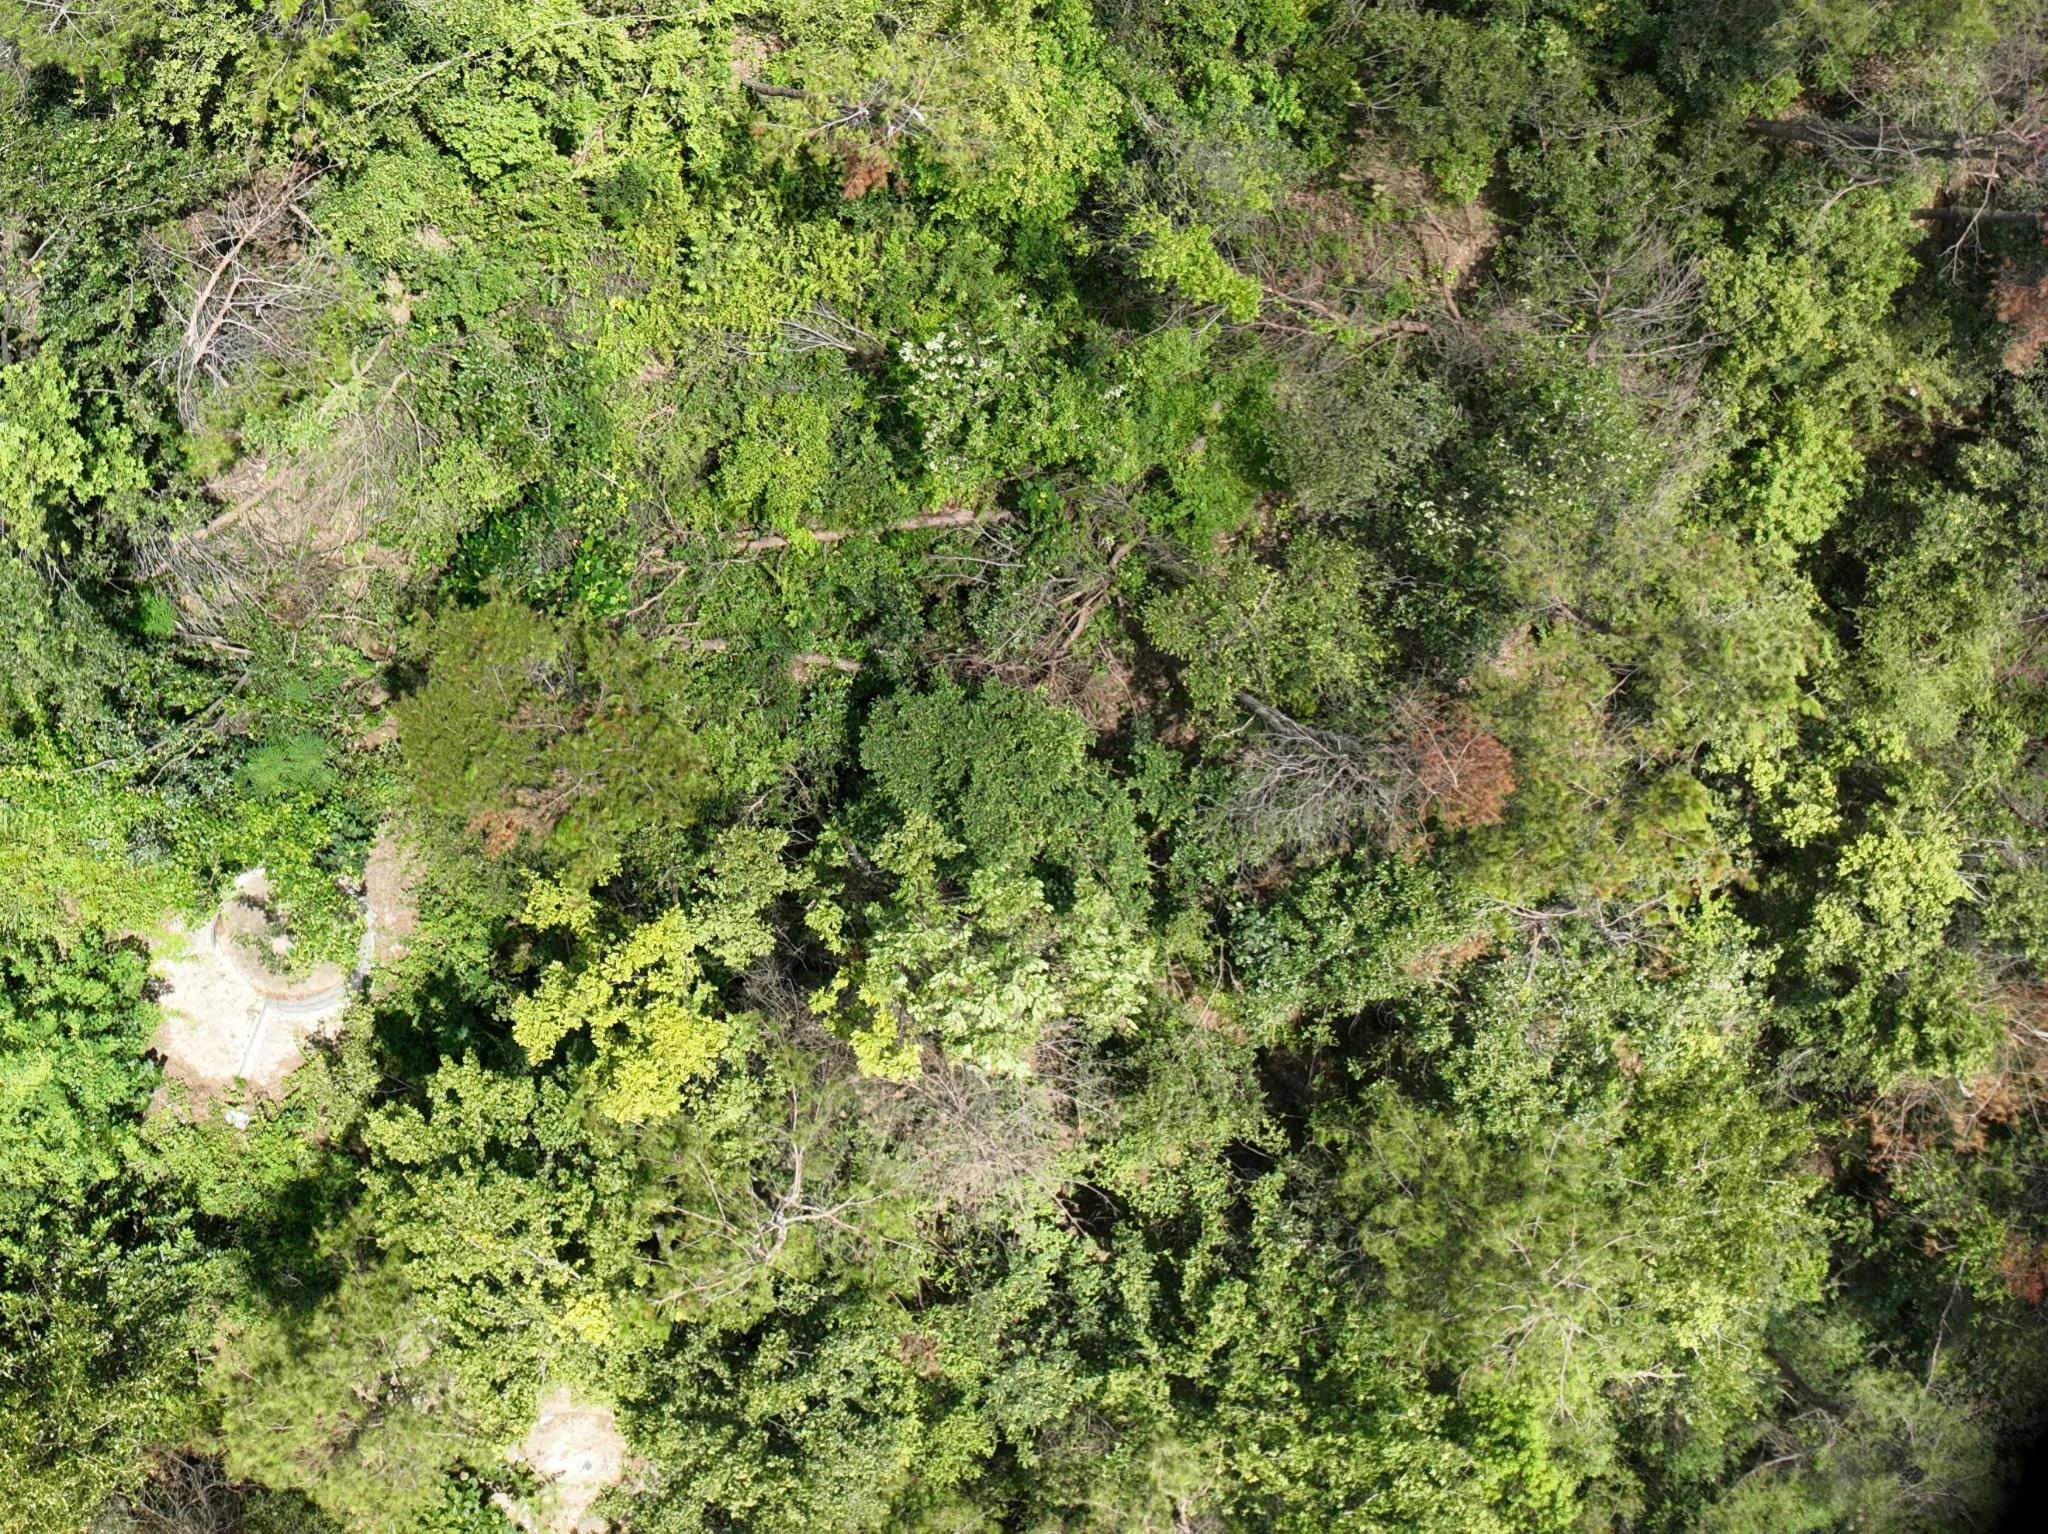heavy: (1837, 1054, 2032, 1170), (1397, 691, 1513, 844)
